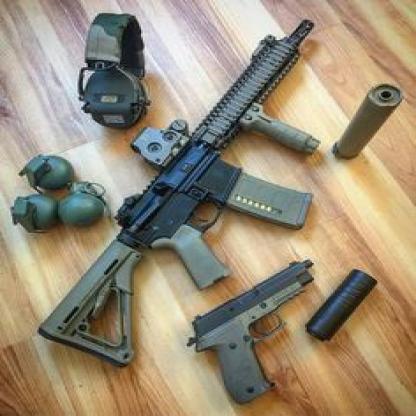Grenade: (60, 180, 114, 229), (17, 150, 75, 192), (12, 192, 58, 235)
Gun: (35, 17, 316, 368)
Pistol: (186, 256, 316, 405)
